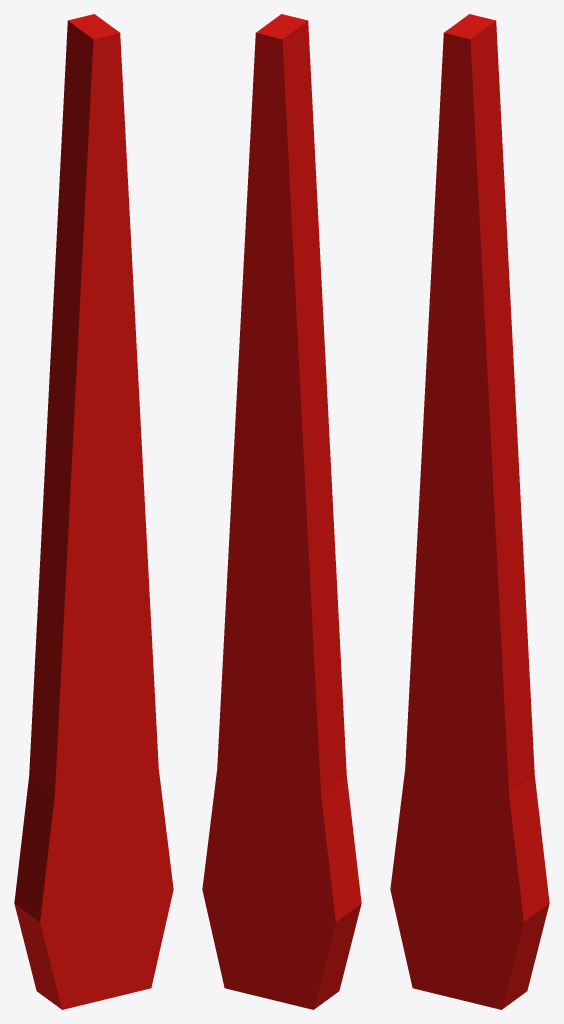
Rendered from needle.obj.
3 renders of one model, left to right at view 1: azimuth 30°, elevation 25°; view 2: azimuth 150°, elevation 25°; view 3: azimuth 330°, elevation 25°, orthographic.
Parts seen in each view (by area): view 1: needle; view 2: needle; view 3: needle.
Part boxes in pixels (box(x1,y1,x2,y2)): needle: box(14, 14, 173, 1009); needle: box(202, 14, 361, 1009); needle: box(390, 14, 549, 1009).
Bounding box in the file's own units: 0.009 × 0.062 × 0.003.
